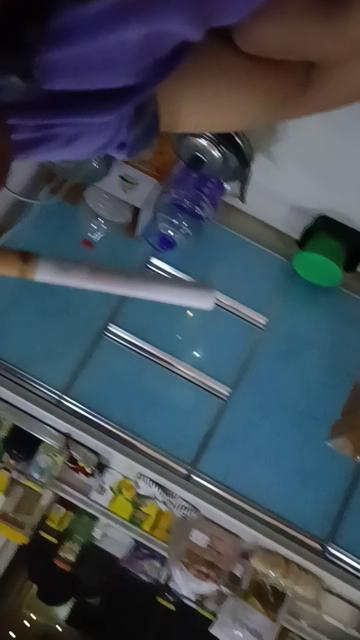Cigarette: (0, 246, 216, 311)
